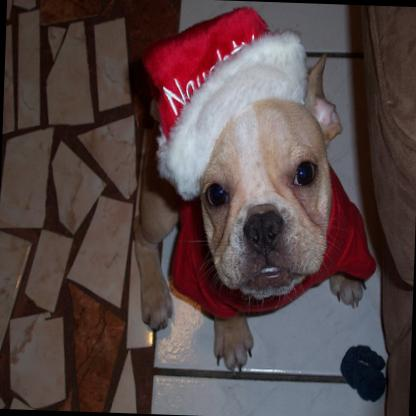French_bulldog: (125, 42, 376, 386)
